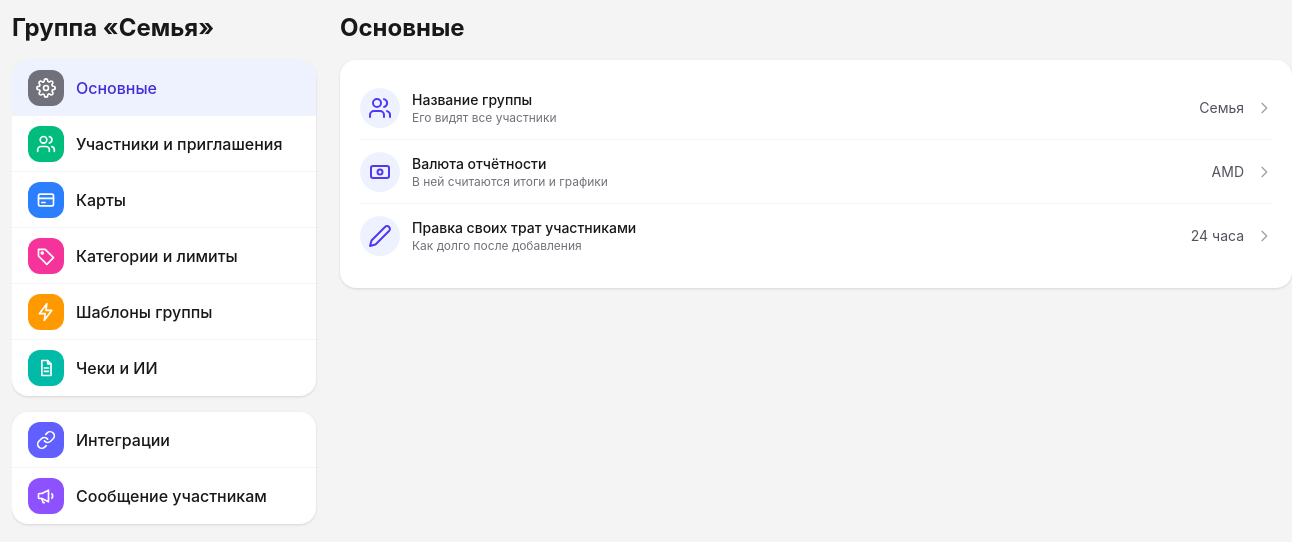
Test: страница «Группа» › меню слева переключает раздел
This screenshot has width=1292, height=542.
Check: the heading "Основные" is shown, box [340,13,465,42]
Click the link "Карты" at (46, 200), box [12,172,316,228]
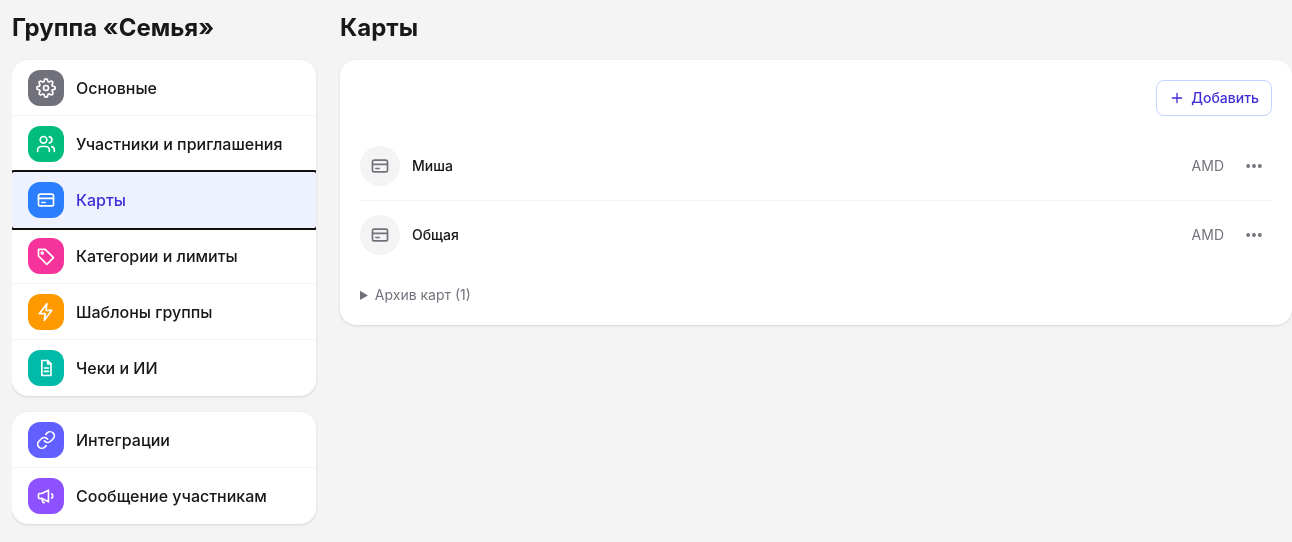
Check: the element named "Карты" is shown, box [340,60,1291,325]
Check: the heading "Карты" is shown, box [340,13,418,42]
